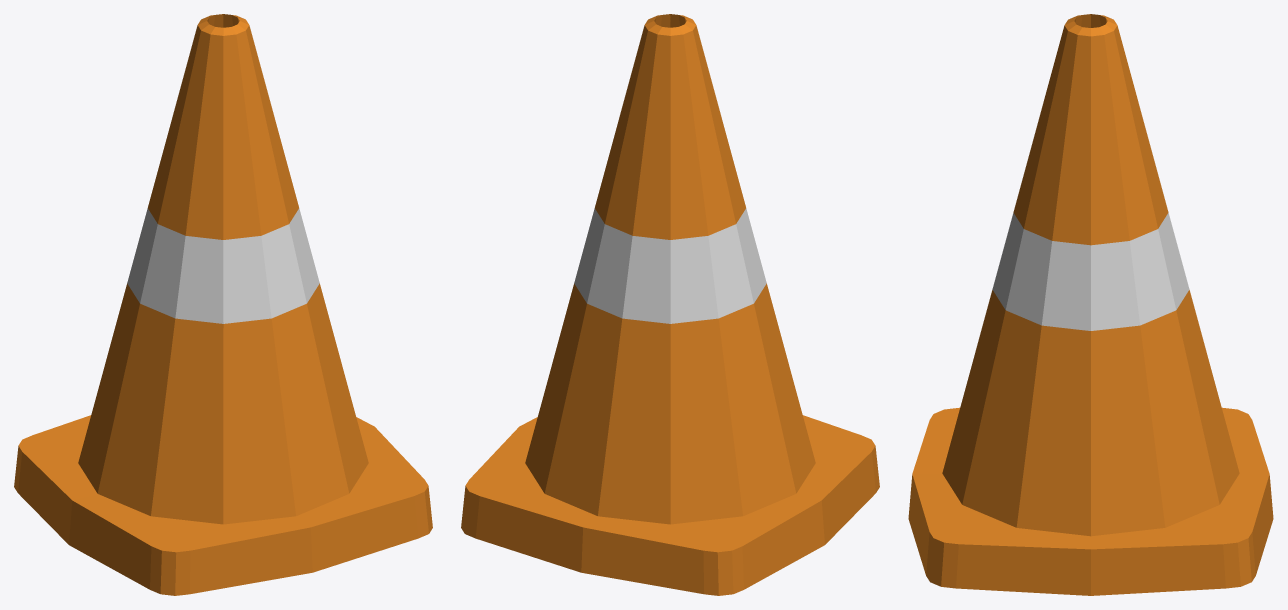
The model's file is Conus.fbx.
3 views of the same model, side by side, from view 1: azimuth 30°, elevation 25°; view 2: azimuth 150°, elevation 25°; view 3: azimuth 270°, elevation 25° (orthographic). The views are drawn at different scales.
Visible parts, largest first — view 1: Cone; view 2: Cone; view 3: Cone.
Part boxes in pixels (x1=…): Cone: x1=14, y1=14, x2=432, y2=595; Cone: x1=461, y1=14, x2=879, y2=595; Cone: x1=908, y1=14, x2=1273, y2=595.
Bounding box in the file's own units: 38.29 × 57.61 × 38.29.
